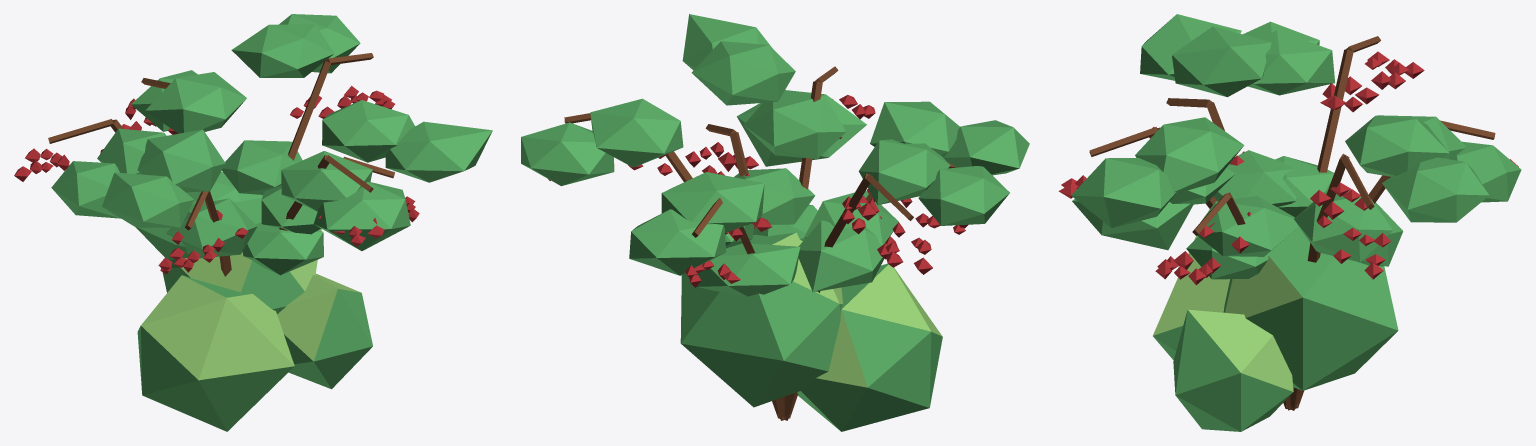
Rendered from berry_bush_full.glb.
3 renders of one model, left to right at view 1: azimuth 30°, elevation 25°; view 2: azimuth 150°, elevation 25°; view 3: azimuth 270°, elevation 25°, orthographic. The views are drawn at different scales.
Parts seen in each view (by area): view 1: berry_bush_full.001; view 2: berry_bush_full.001; view 3: berry_bush_full.001.
Boxes of the visible parts, box(x1,y1,x2,y2) form: berry_bush_full.001: box(14, 14, 492, 431); berry_bush_full.001: box(521, 14, 1029, 431); berry_bush_full.001: box(1058, 14, 1521, 431).
Bounding box in the file's own units: 1.01 × 0.78 × 0.9516.
